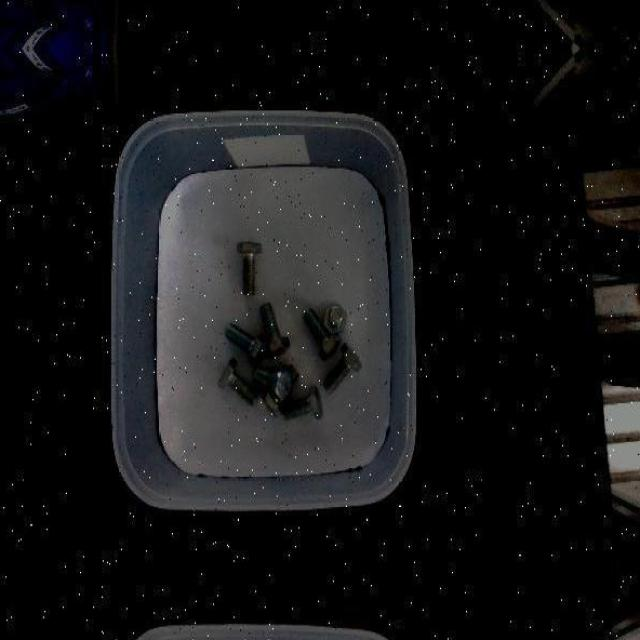screw: (322, 341, 362, 394), (303, 307, 342, 361), (218, 358, 258, 405), (224, 321, 267, 364), (260, 302, 288, 358), (282, 384, 323, 420), (238, 240, 264, 295), (254, 366, 292, 402), (323, 302, 347, 334)
